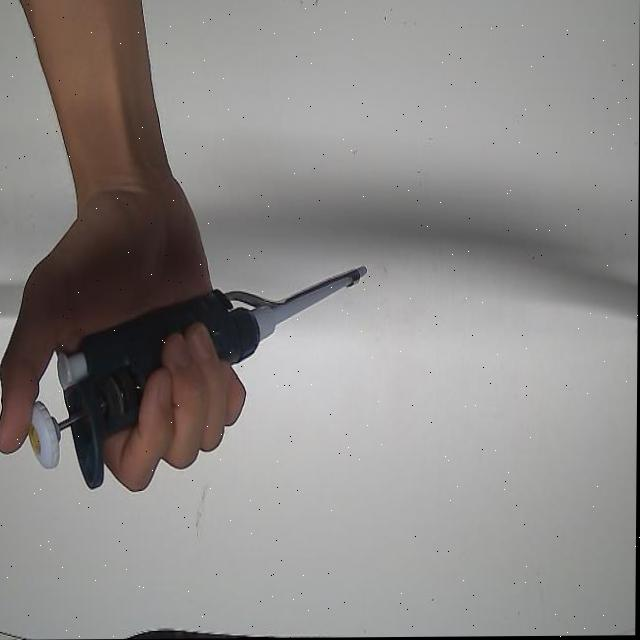Single Channel Pipettor: (25, 265, 374, 489)
